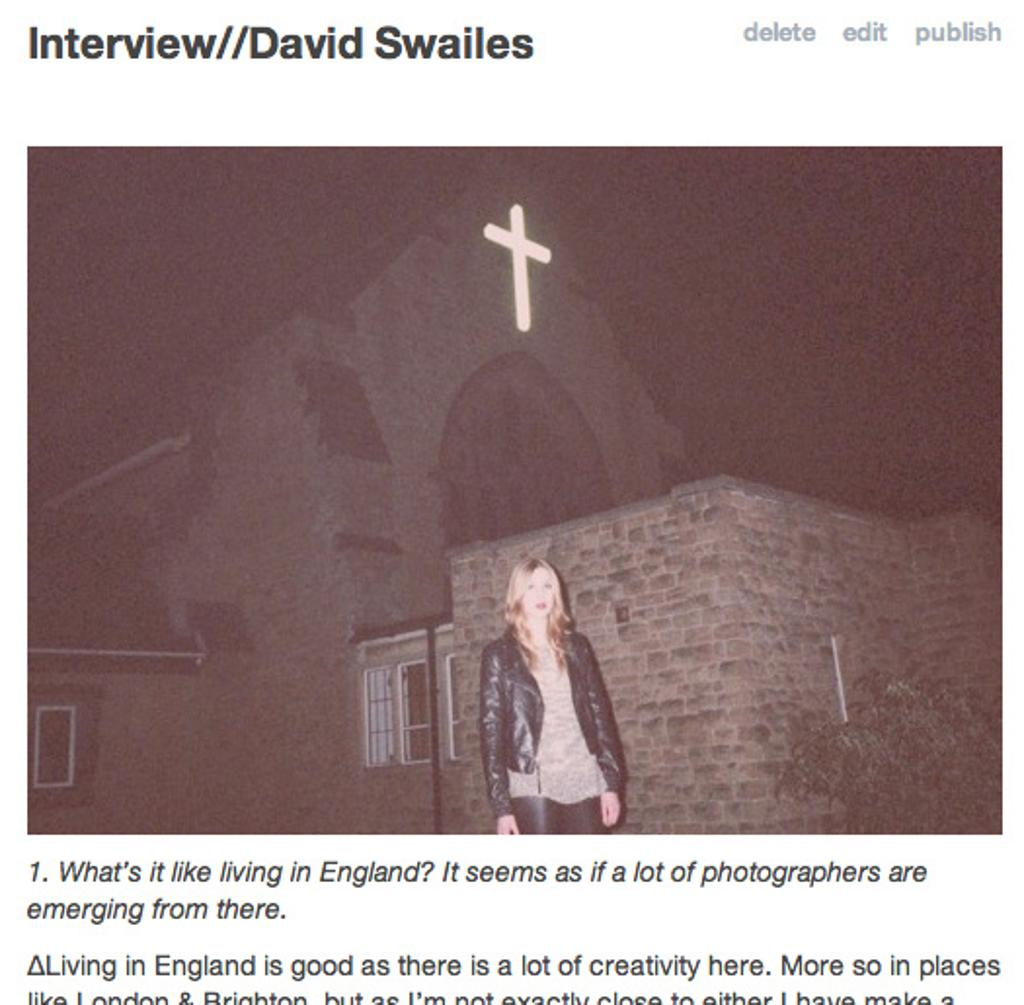face: (523, 570, 553, 617)
